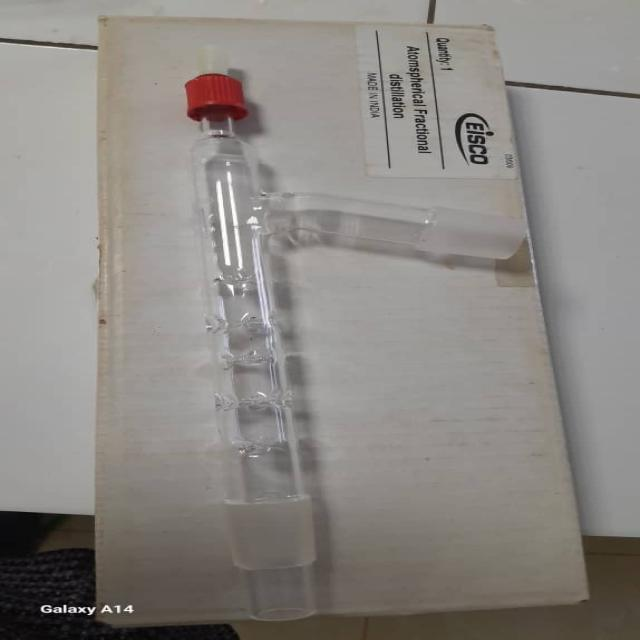Atmospherical Fractional Distillation: (158, 50, 531, 626)
